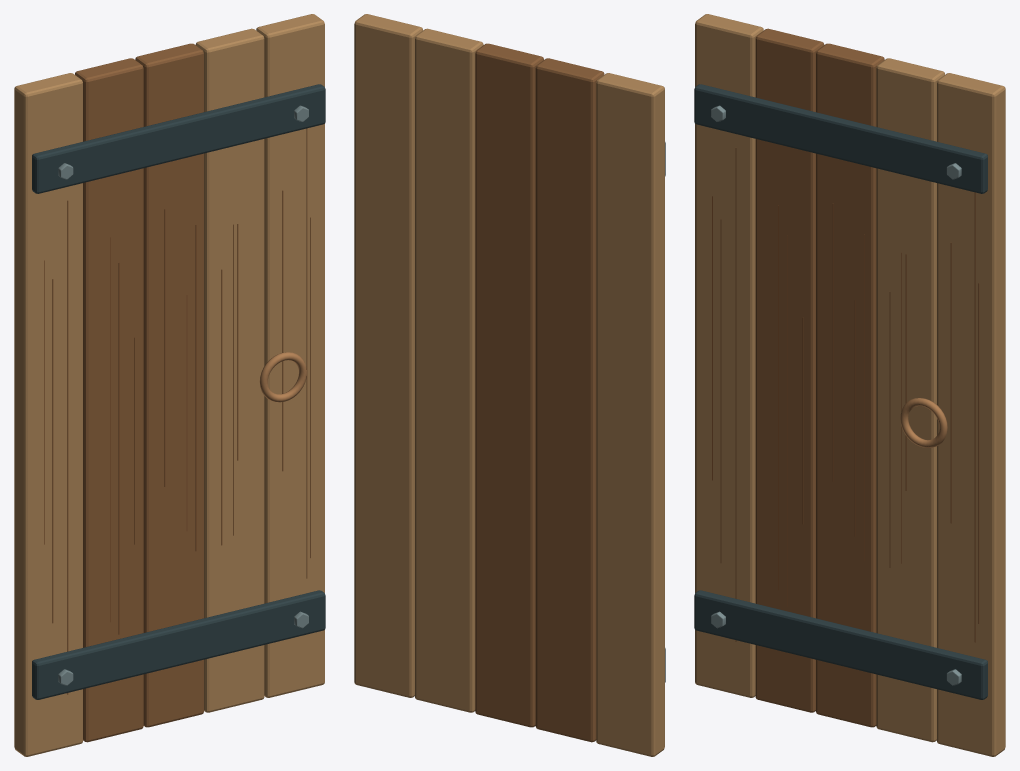
Rendered from SM_WoodDoor_100.fbx.
3 views of the same model, side by side, from view 1: azimuth 30°, elevation 25°; view 2: azimuth 150°, elevation 25°; view 3: azimuth 330°, elevation 25° (orthographic).
Visible parts, largest first — view 1: SM_WoodDoor_100; view 2: SM_WoodDoor_100; view 3: SM_WoodDoor_100.
Part boxes in pixels (left/top/right/bottom): SM_WoodDoor_100: left=14, top=14, right=325, bottom=756; SM_WoodDoor_100: left=354, top=14, right=665, bottom=756; SM_WoodDoor_100: left=694, top=14, right=1005, bottom=756.
Size of what is drawn, in the model's own units: 0.995 by 0.162 by 2.1.
